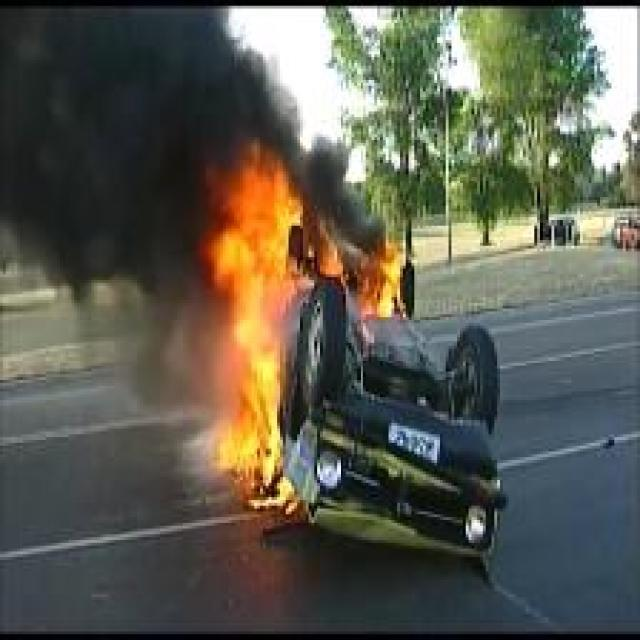Fire: (206, 141, 346, 513), (359, 230, 412, 324)
